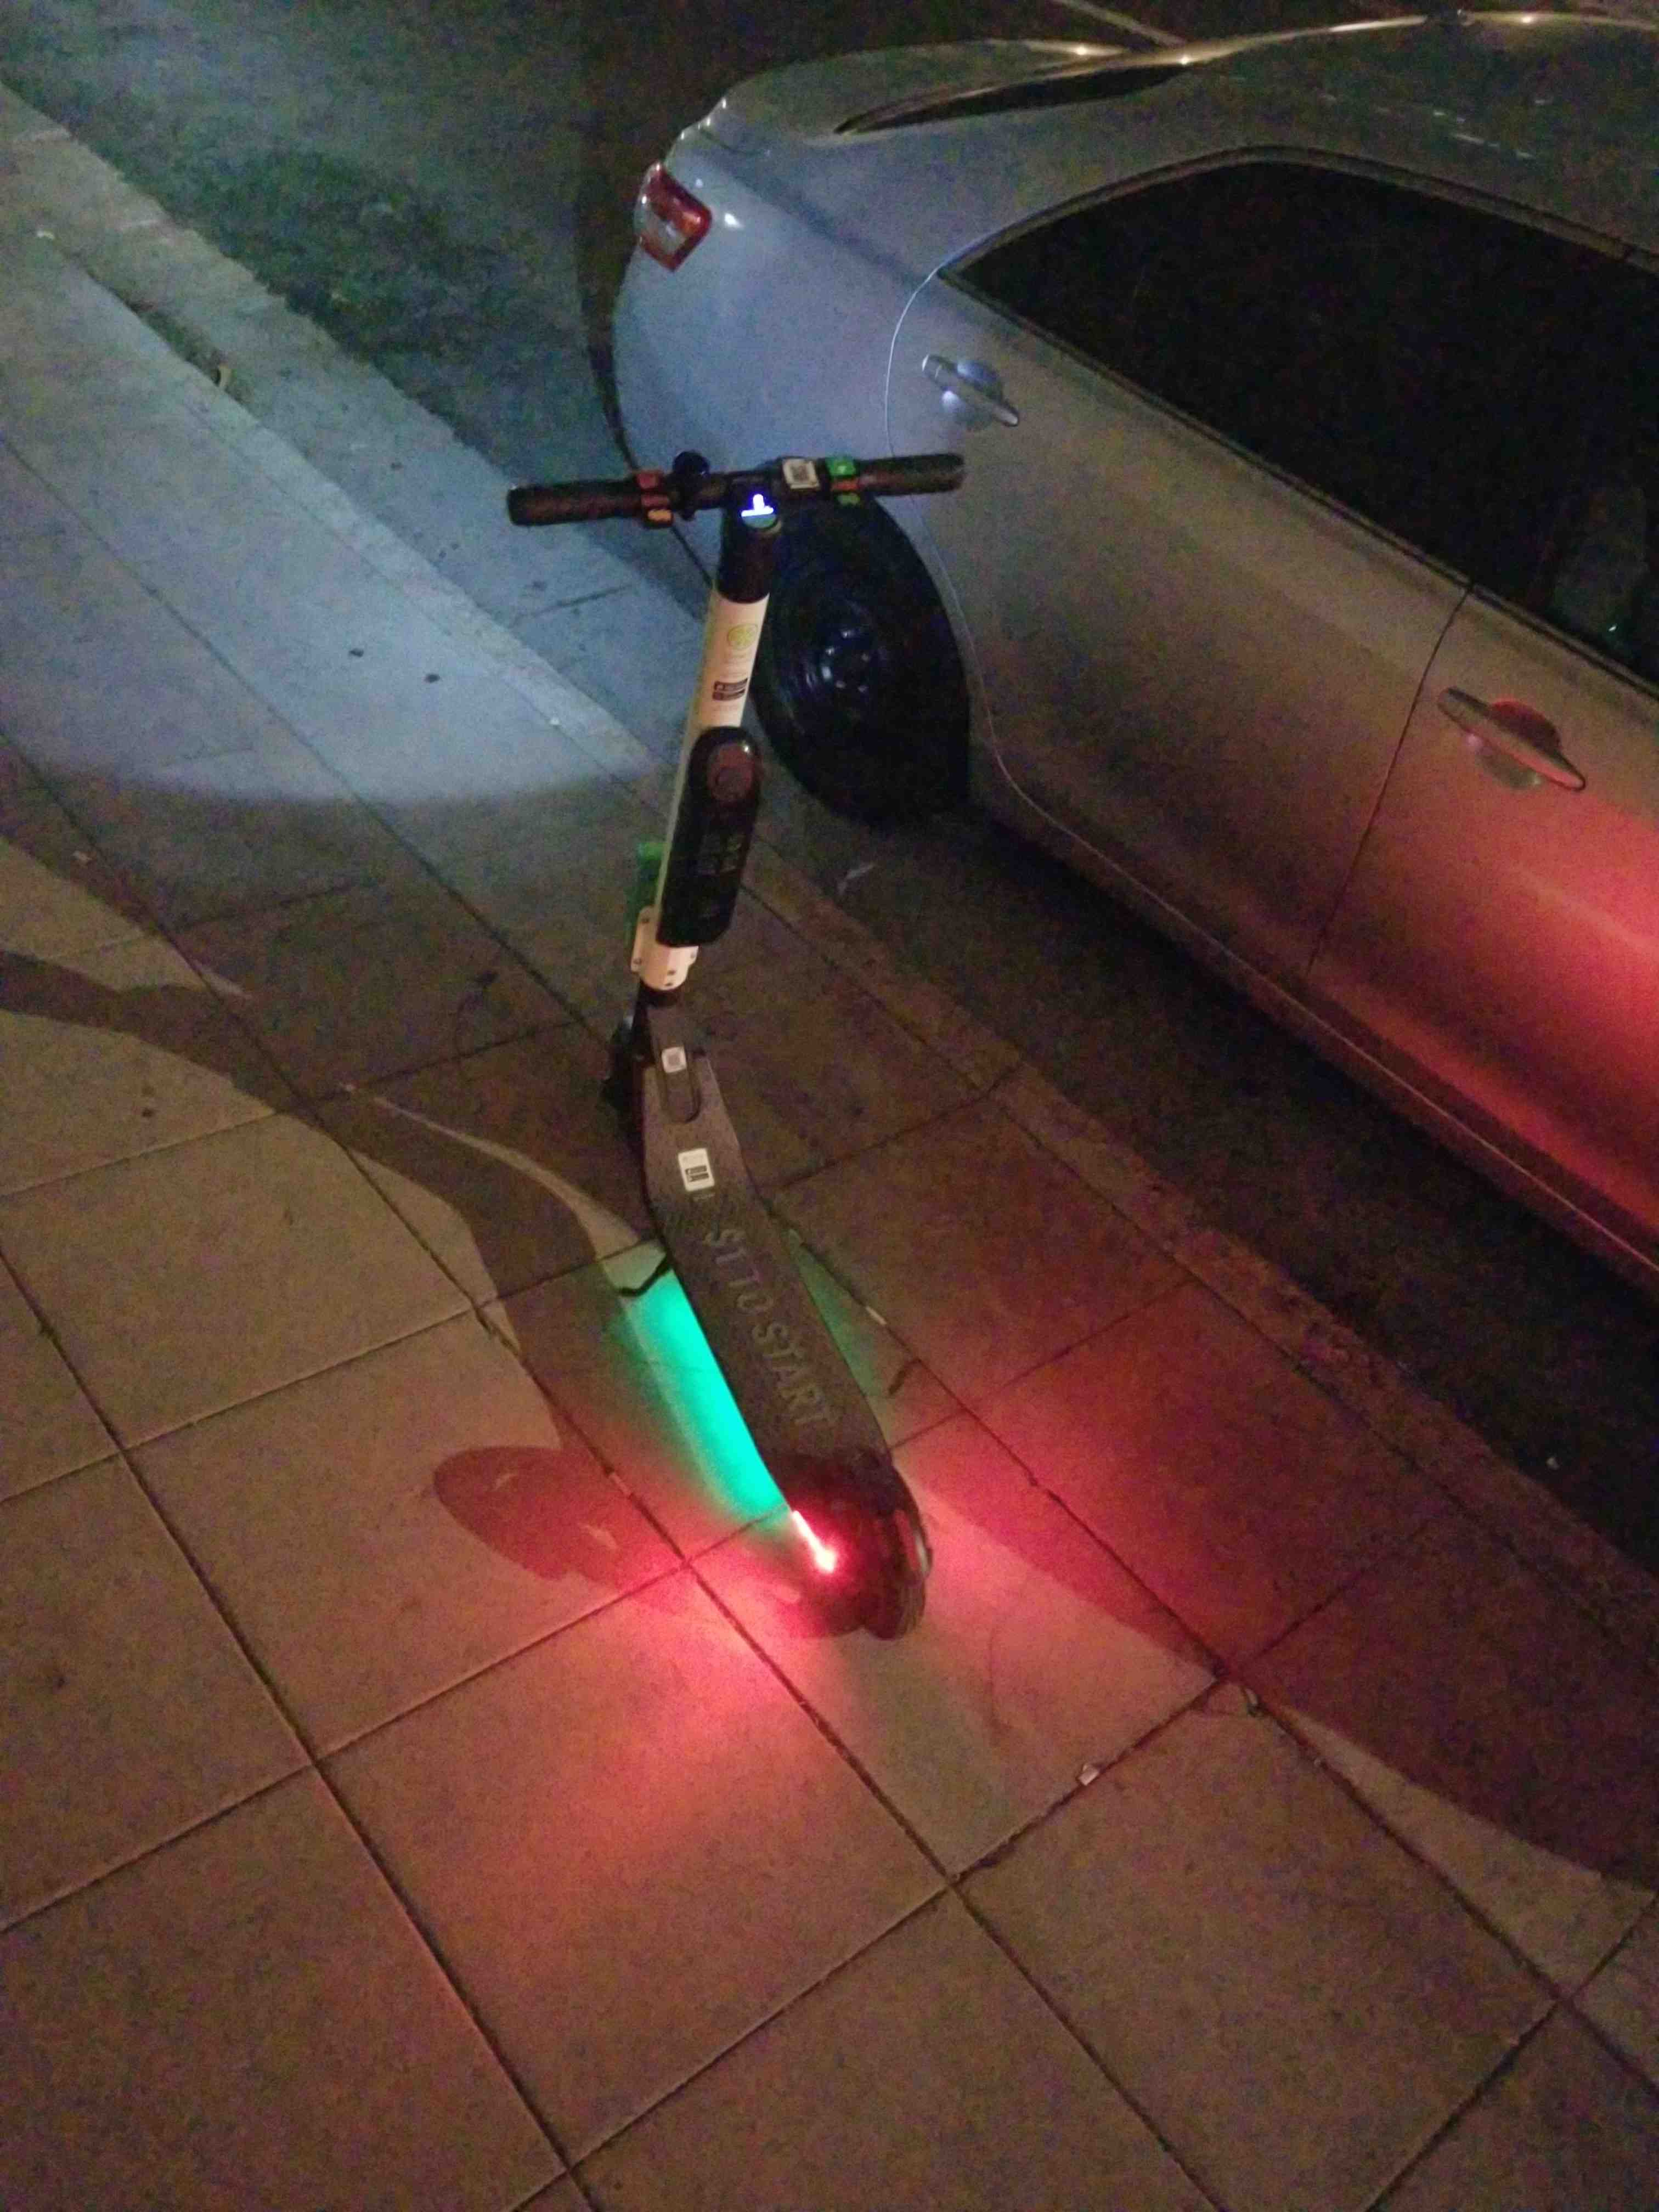scooter: (476, 425, 1110, 1677)
